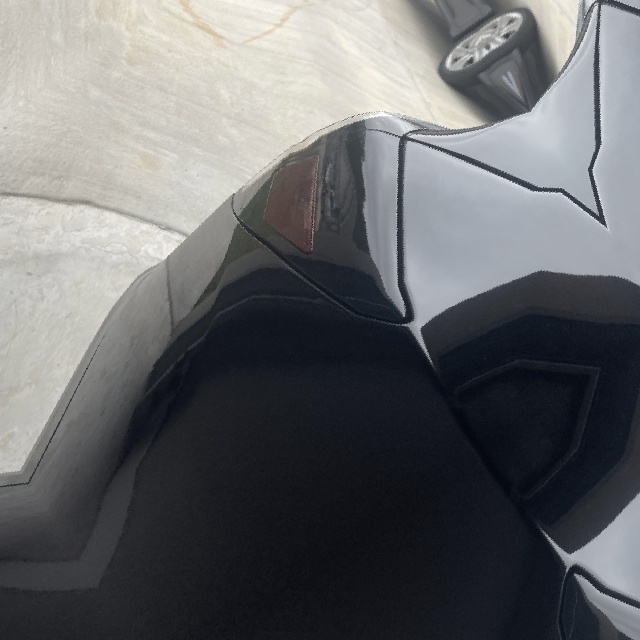reflector: (241, 142, 370, 281)
